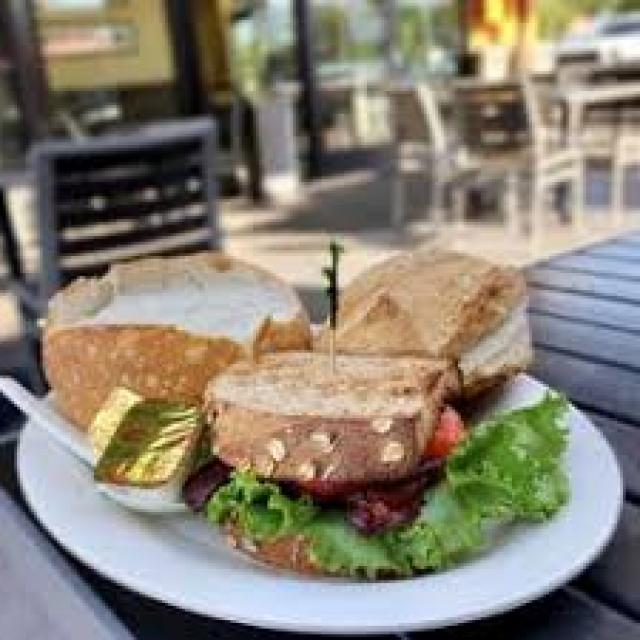Sandwich: (213, 239, 572, 563)
